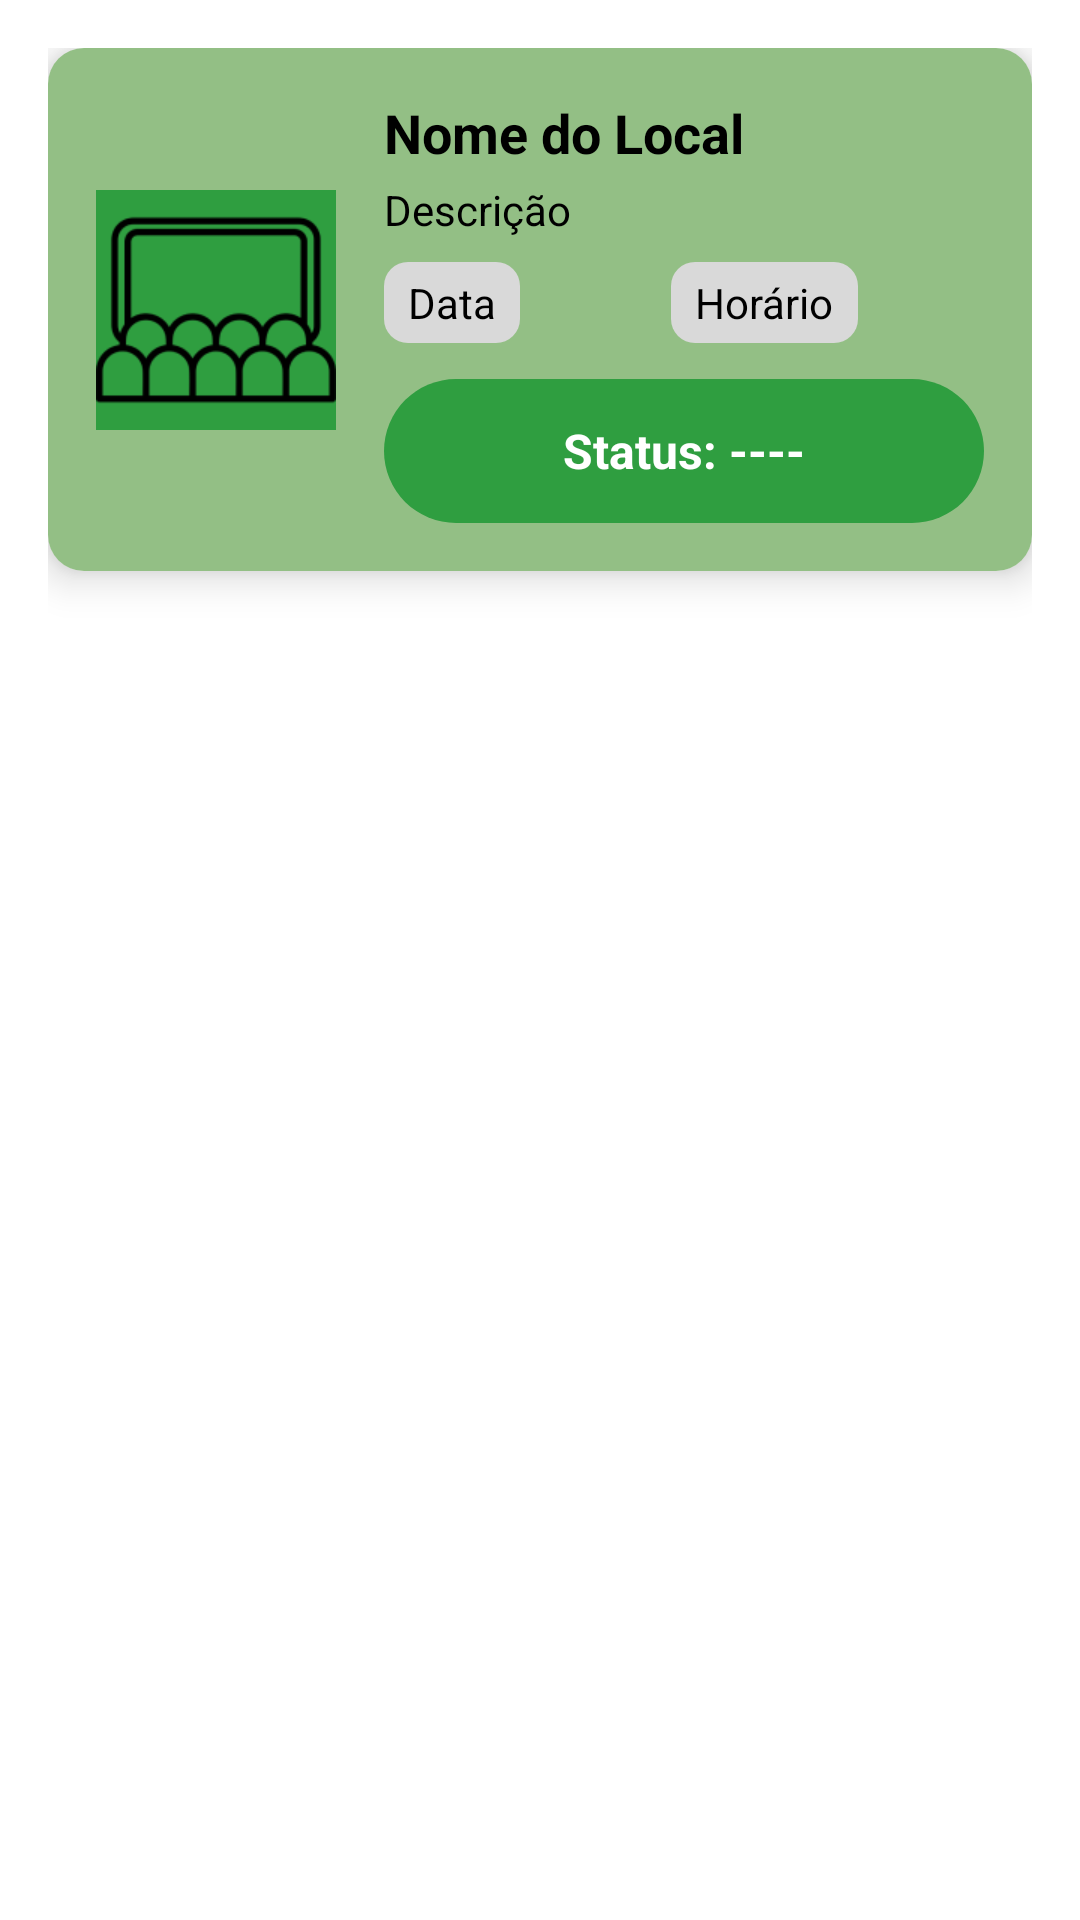

Locate icon controls on the screen. Image size 1080px×1920px, boxes as (x1, y1, x2, y2).
auditorio: (96, 190, 336, 430)
